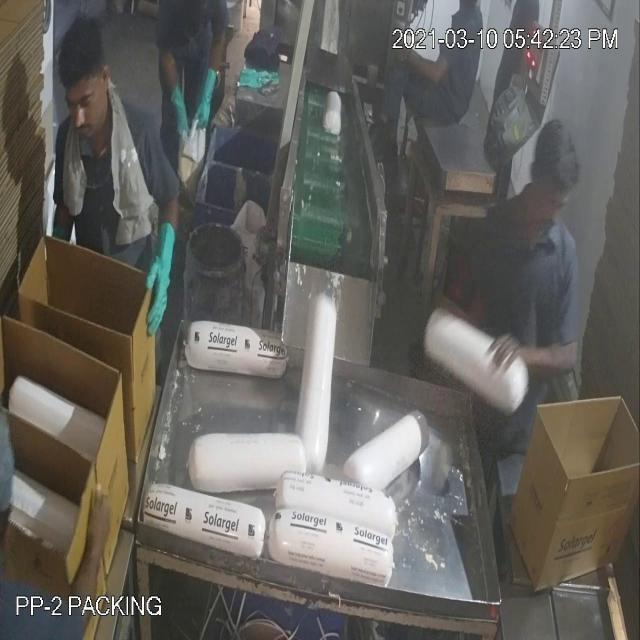No_Gloves: (38, 50, 541, 365)
